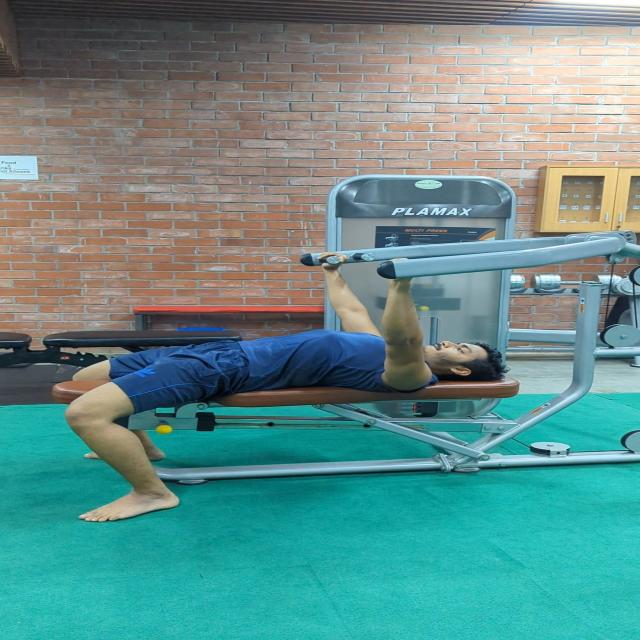Normal_BrenchPress: (30, 221, 490, 523)
